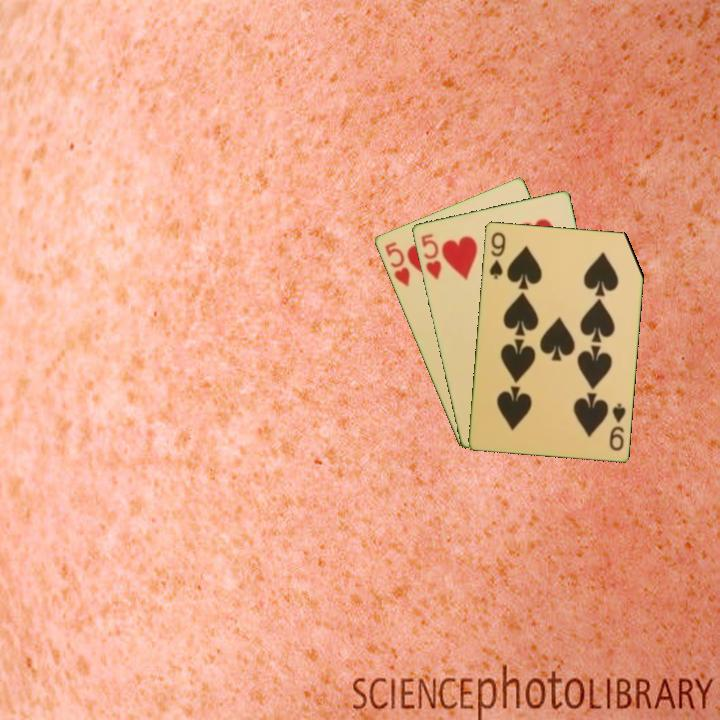5h: (381, 238, 413, 289), (417, 230, 444, 282)
9s: (605, 400, 628, 453), (486, 228, 508, 282)
